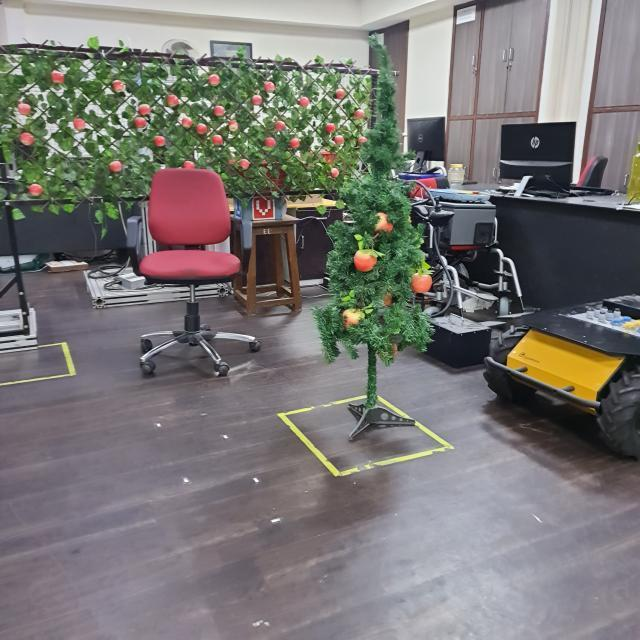tree: (319, 42, 447, 442)
